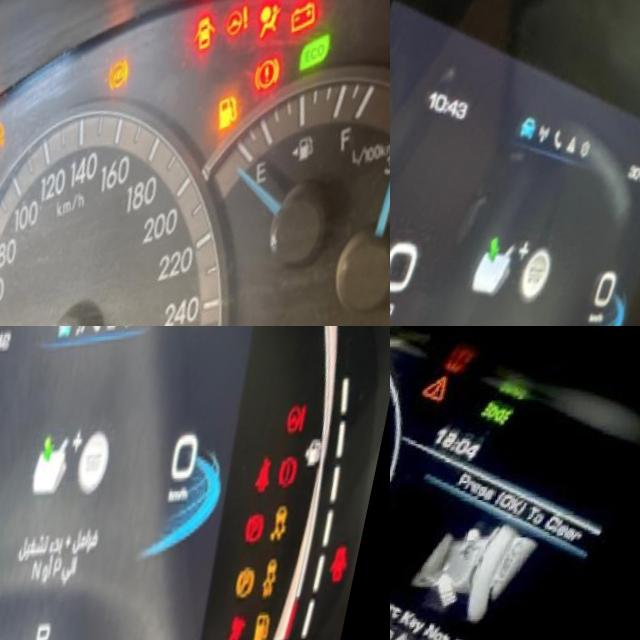Doors: (190, 17, 227, 61), (342, 546, 373, 597)
Low fuel level: (217, 97, 254, 139), (270, 616, 295, 640)
